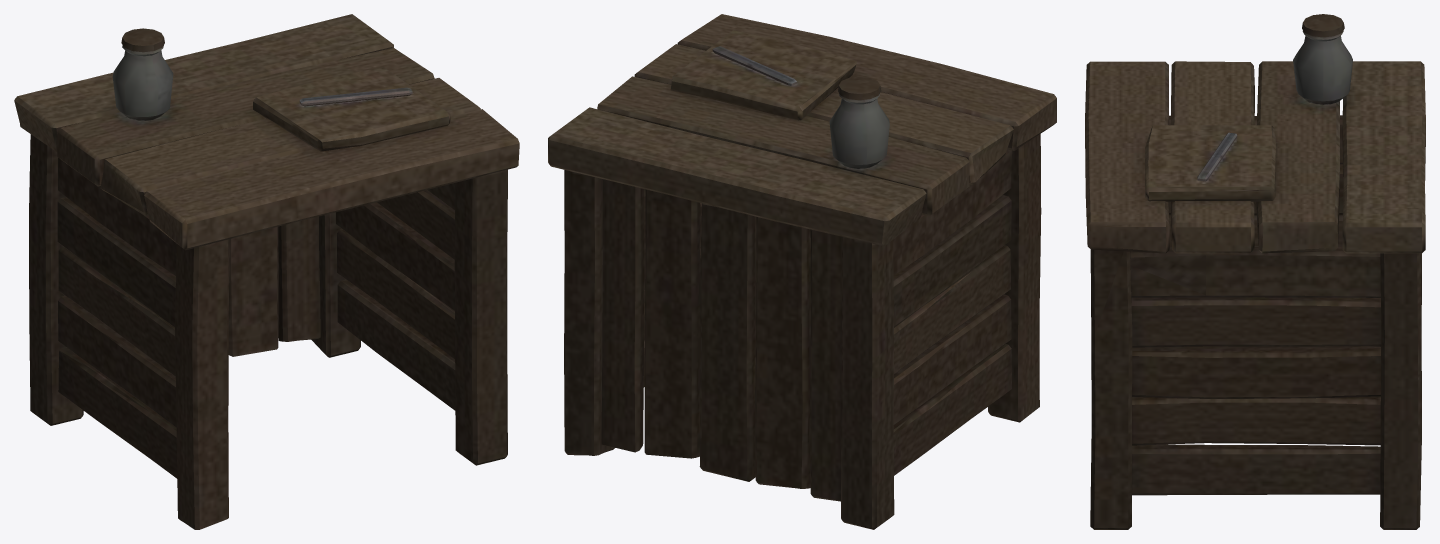
Rendered from kitchen_counter.glb.
3 views of the same model, side by side, from view 1: azimuth 30°, elevation 25°; view 2: azimuth 150°, elevation 25°; view 3: azimuth 270°, elevation 25° (orthographic).
Visible parts, largest first — view 1: kitchen_counter; view 2: kitchen_counter; view 3: kitchen_counter.
Part boxes in pixels (bbox=[...]): kitchen_counter: bbox=[14, 14, 519, 529]; kitchen_counter: bbox=[548, 14, 1056, 529]; kitchen_counter: bbox=[1085, 14, 1425, 529].
Size of the model in its own units: 0.86 by 0.9555 by 0.755.
1 material, 1 textured.
